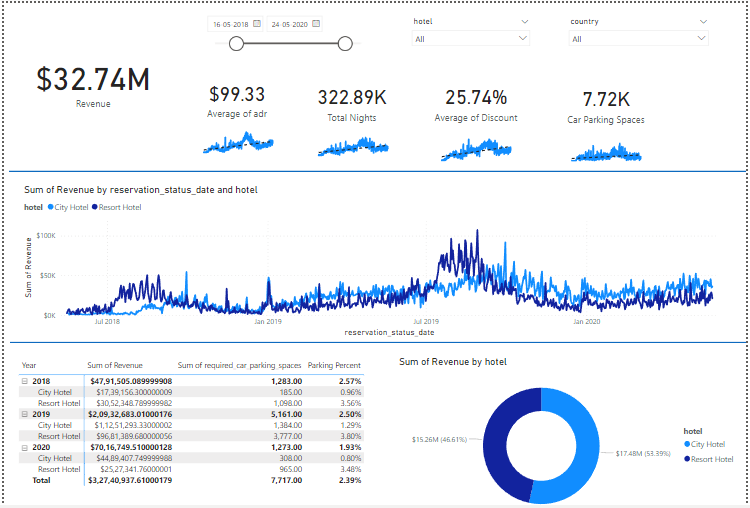

The dashboard page shown, as its layout file describes it:
{"tool":"powerbi","page":{"name":"Page 1","canvas":[1280,900],"ordinal":0},"visuals":[{"type":"shape","box":[8.6,164.3,1271.4,252.9],"z":0},{"type":"shape","box":[10.1,447.8,1270.1,273.6],"z":1000},{"type":"card","fields":{"Values":["Sum(Query1.Revenue)"]},"box":[17.5,10,272.5,248.8],"z":2000},{"type":"card","fields":{"Values":["Avg(Query1.adr)"]},"box":[290,120,224.3,87.1],"z":3000},{"type":"card","fields":{"Values":["Query1.Total Nights"]},"box":[488.6,107.1,224.3,127.1],"z":4000},{"type":"lineChart","fields":{"Category":["Query1.reservation_status_date"],"Y":["Sum(Query1.Revenue)"],"Series":["Query1.hotel"]},"box":[28.8,312.5,1221.1,269.3],"z":5000},{"type":"slicer","fields":{"Values":["Query1.country"]},"box":[963.8,18.8,261.2,67.5],"z":6000},{"type":"slicer","fields":{"Values":["Query1.hotel"]},"box":[692.5,18.8,223.8,97.5],"z":7000},{"type":"lineChart","fields":{"Category":["Query1.reservation_status_date"],"Y":["Sum(Query1.adr)"]},"box":[328.6,202.9,148.6,61.4],"z":8000},{"type":"lineChart","fields":{"Category":["Query1.reservation_status_date"],"Y":["Query1.Total Nights"]},"box":[527.1,208.6,148.6,61.4],"z":9000},{"type":"lineChart","fields":{"Category":["Query1.reservation_status_date"],"Y":["Sum(Query1.Discount)"]},"box":[740,217.1,148.6,61.4],"z":10000},{"type":"card","fields":{"Values":["Avg(Query1.Discount)"]},"box":[701.4,107.1,224.3,127.1],"z":11000},{"type":"card","fields":{"Values":["Sum(Query1.required_car_parking_spaces)"]},"box":[925.7,120,224.3,107.1],"z":12000},{"type":"lineChart","fields":{"Category":["Query1.reservation_status_date"],"Y":["Sum(Query1.required_car_parking_spaces)"]},"box":[964.3,217.1,148.6,61.4],"z":13000},{"type":"donutChart","fields":{"Category":["Query1.hotel"],"Y":["Sum(Query1.Revenue)"]},"box":[675.7,608.6,595.7,291.4],"z":14000},{"type":"pivotTable","fields":{"Rows":["Query1.reservation_status_date.Variation.Date Hierarchy.Year","Query1.hotel"],"Values":["Sum(Query1.Revenue)","Sum(Query1.required_car_parking_spaces)","Query1.Parking Percent"]},"box":[21.4,608.6,618.6,278.6],"z":15000},{"type":"slicer","fields":{"Values":["Query1.reservation_status_date"]},"box":[338.8,11.2,300,71.2],"z":16000}]}

Visuals, with their boxes on the page's 1280x900 design canvas (x1, y1, x2, y2). These are canvas units, not pixel positions in the 750x508 screenshot, which may show the page scaled, cropped or inside an application window:
shape: BBox(9, 164, 1280, 417)
shape: BBox(10, 448, 1280, 721)
card - Sum(Query1.Revenue): BBox(18, 10, 290, 259)
card - Avg(Query1.adr): BBox(290, 120, 514, 207)
card - Query1.Total Nights: BBox(489, 107, 713, 234)
lineChart - Query1.reservation_status_date x Sum(Query1.Revenue): BBox(29, 312, 1250, 582)
slicer - Query1.country: BBox(964, 19, 1225, 86)
slicer - Query1.hotel: BBox(692, 19, 916, 116)
lineChart - Query1.reservation_status_date x Sum(Query1.adr): BBox(329, 203, 477, 264)
lineChart - Query1.reservation_status_date x Query1.Total Nights: BBox(527, 209, 676, 270)
lineChart - Query1.reservation_status_date x Sum(Query1.Discount): BBox(740, 217, 889, 278)
card - Avg(Query1.Discount): BBox(701, 107, 926, 234)
card - Sum(Query1.required_car_parking_spaces): BBox(926, 120, 1150, 227)
lineChart - Query1.reservation_status_date x Sum(Query1.required_car_parking_spaces): BBox(964, 217, 1113, 278)
donutChart - Query1.hotel x Sum(Query1.Revenue): BBox(676, 609, 1271, 900)
pivotTable - Query1.reservation_status_date.Variation.Date Hierarchy.Year x Query1.hotel: BBox(21, 609, 640, 887)
slicer - Query1.reservation_status_date: BBox(339, 11, 639, 82)
